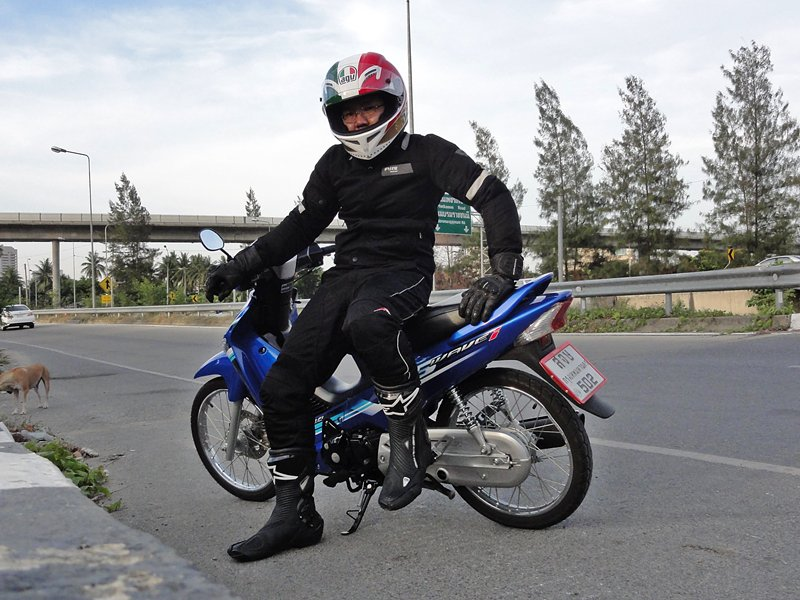helmet: (318, 51, 408, 160)
motorcycle: (199, 230, 592, 526)
